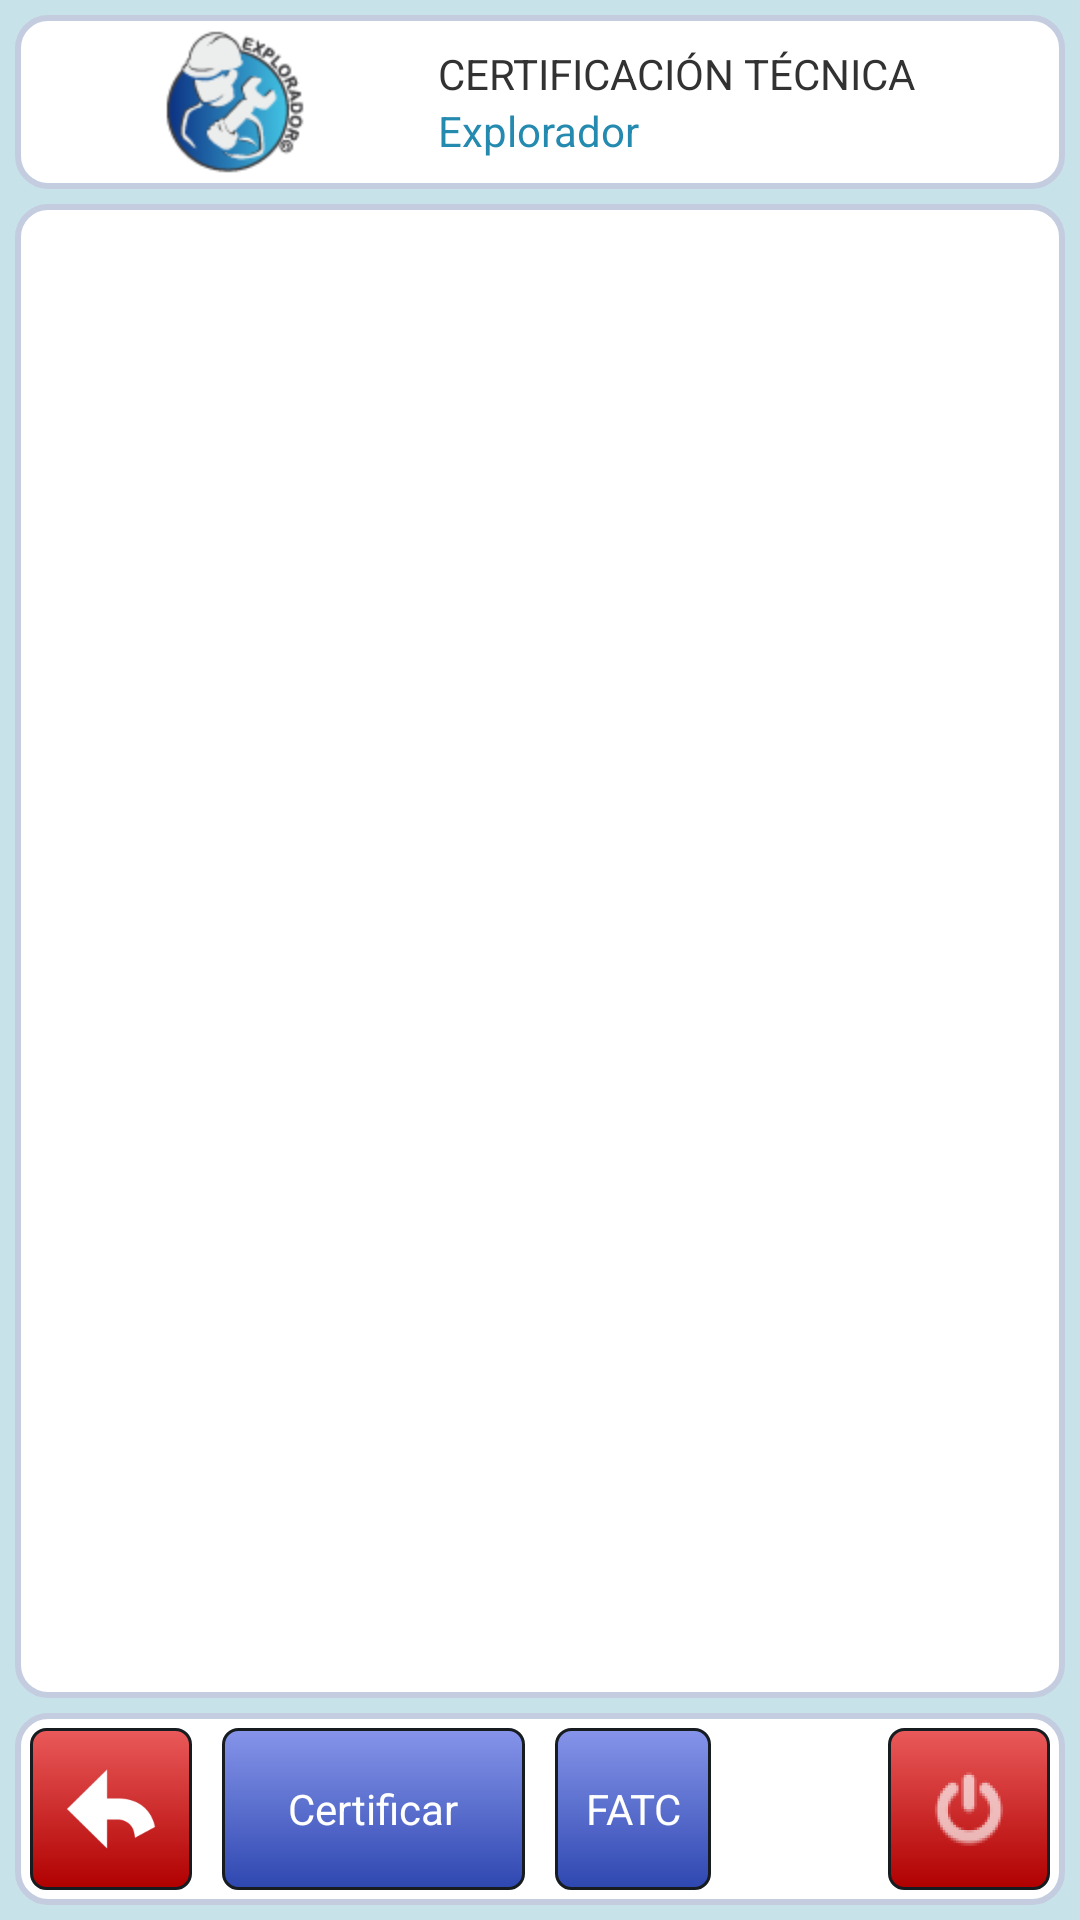

Icons on this 1080x1920 Android screen, each with the point to tap as (x,y):
back: (111,1809)
shutdown: (969,1809)
